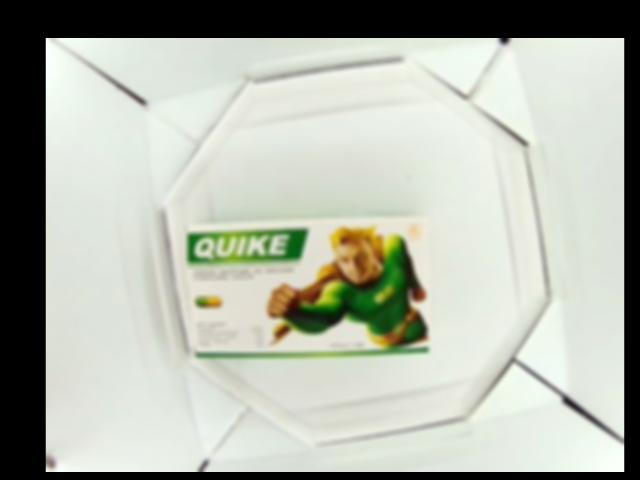Medicine: (185, 215, 430, 365)
